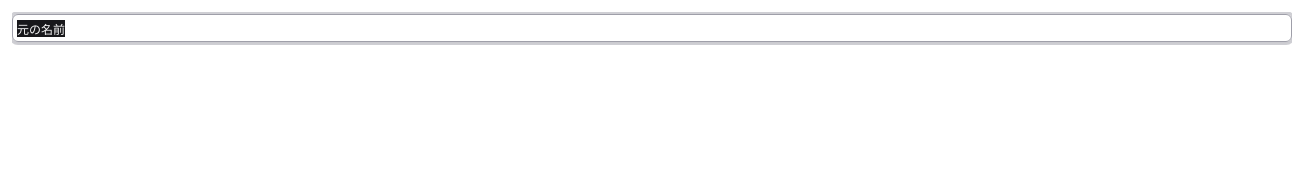
Test: 行内で名前を変更 › 保存中の二重送信とキャンセルを防ぎ、失敗しても入力を残して再試行できる
Later steps or results of the test are not shown.
Replace the text in the field with "新しい名前": (652, 28) [12,14,1292,42]
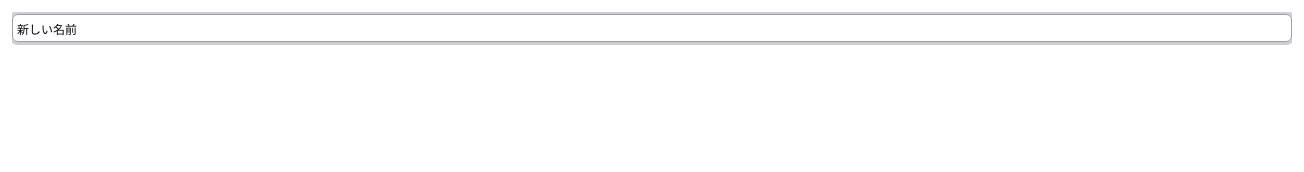
Press Enter in the field, box [12,14,1292,42]
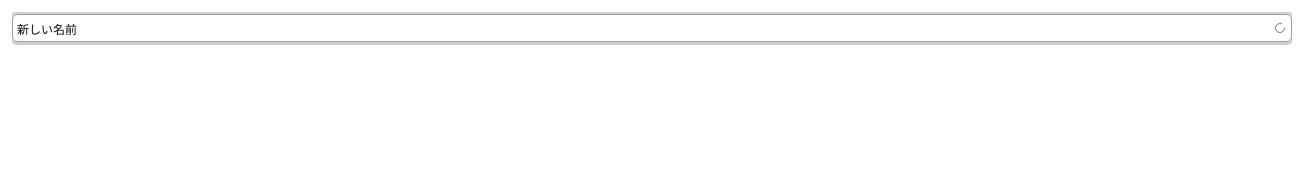
Press Enter in the field, box [12,14,1292,42]
Press Escape in the field, box [12,14,1292,42]
Leave the field, box [12,14,1292,42]
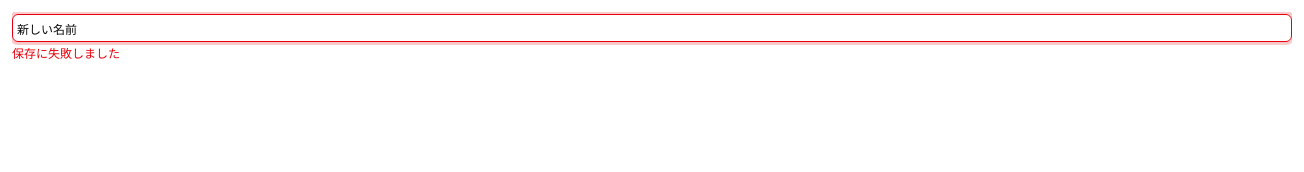
Expected: the message reads "保存に失敗しました", [12,46,120,61]
